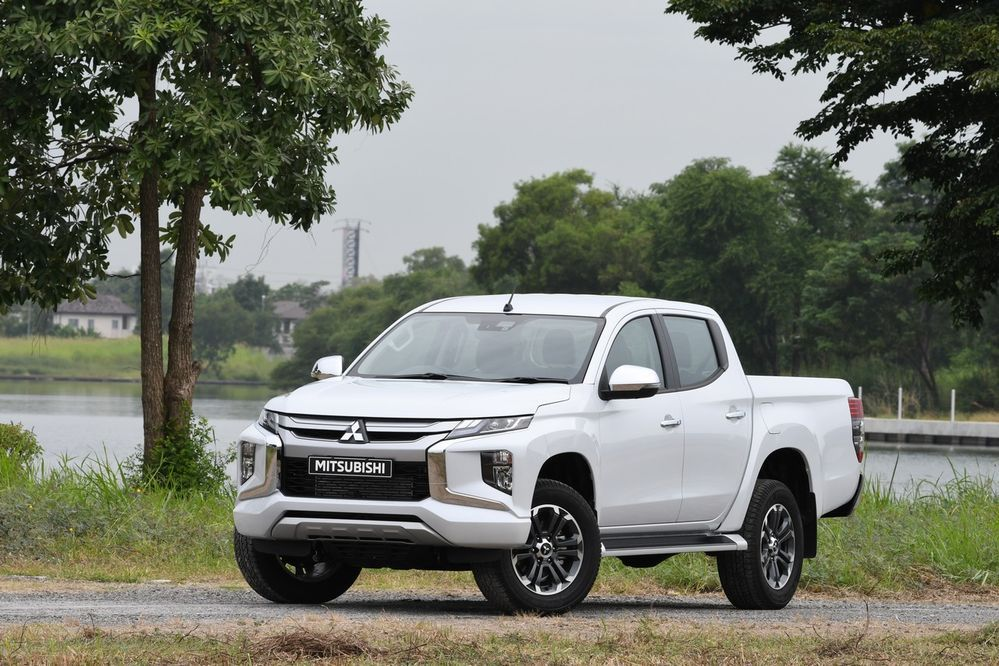pickup: (232, 289, 868, 613)
